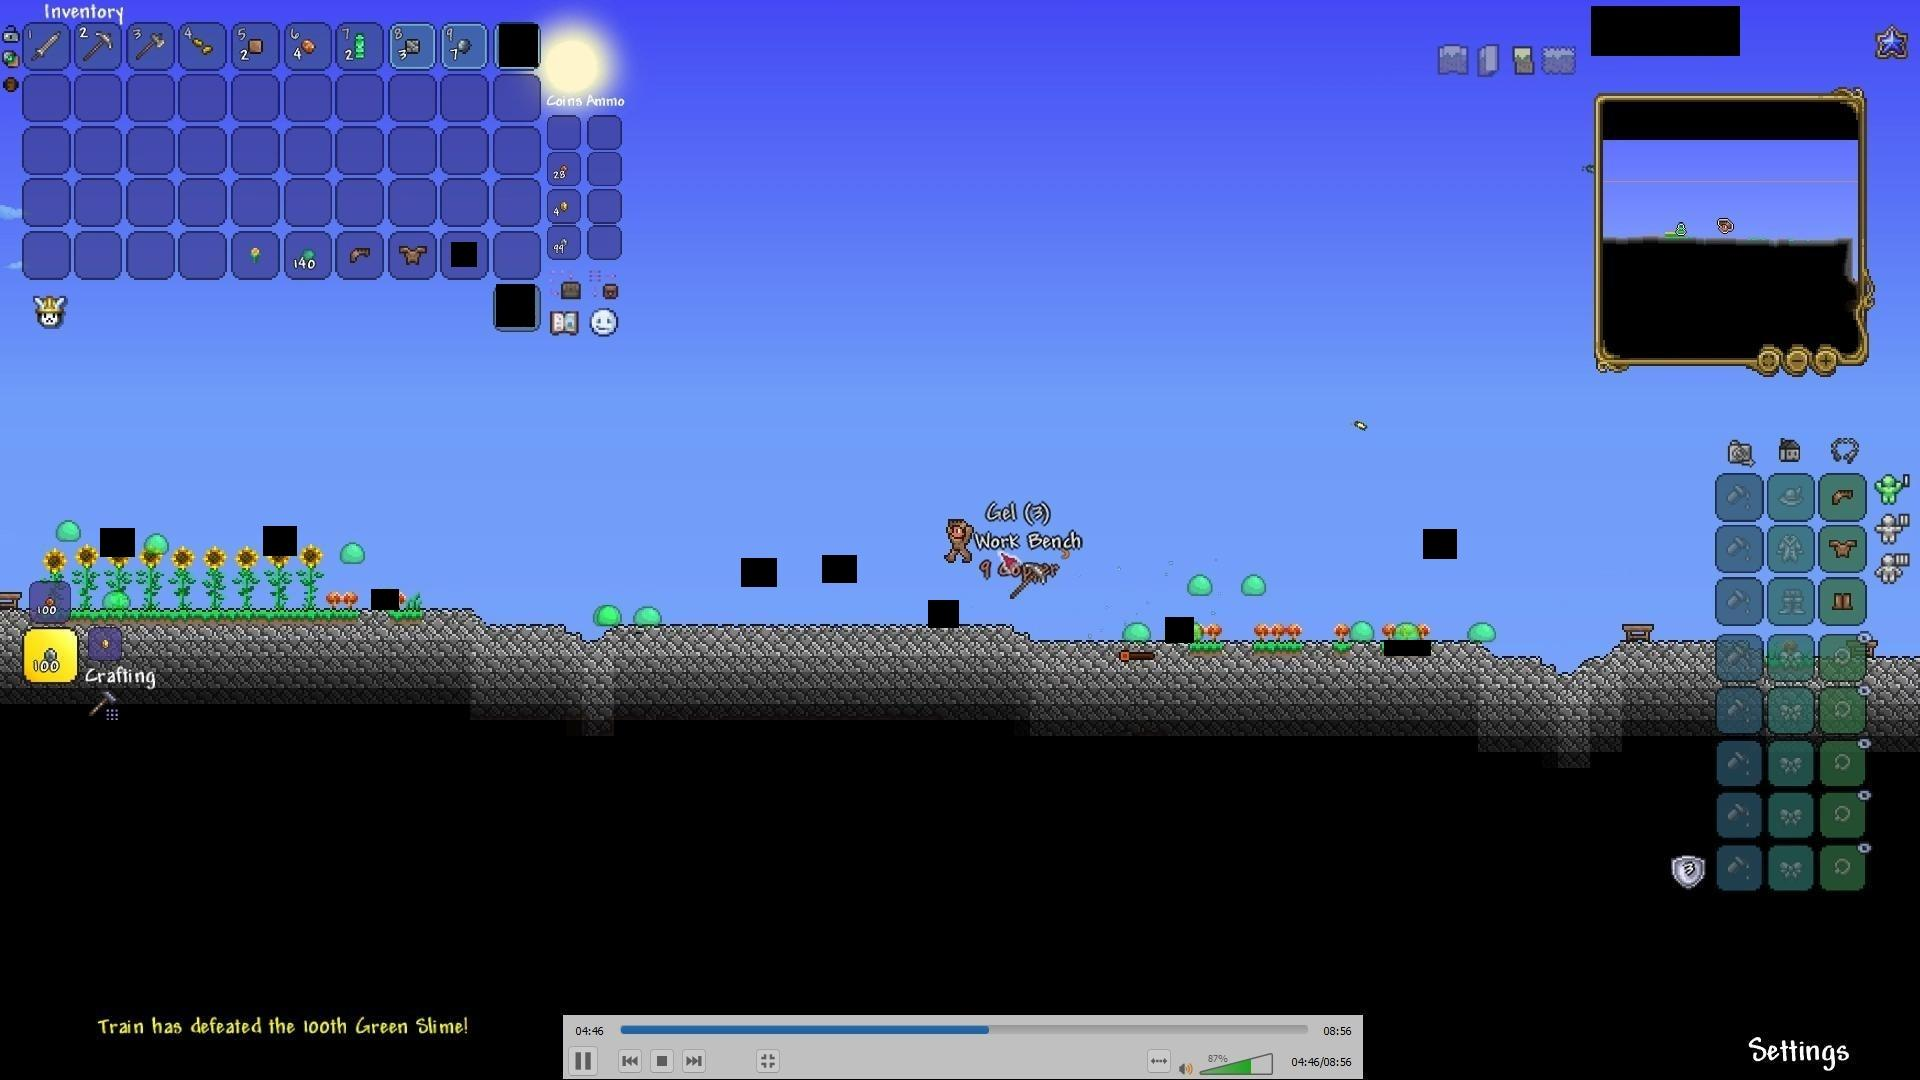breastplate: (397, 243, 429, 262), (1830, 537, 1859, 558)
dirt: (73, 608, 359, 624), (1254, 636, 1300, 655), (1192, 637, 1221, 655), (392, 611, 423, 622)
helmet: (345, 243, 375, 268), (1829, 484, 1858, 509)
legs: (1832, 588, 1857, 615)
slime: (1183, 571, 1217, 599), (335, 538, 368, 566), (133, 531, 164, 560), (592, 600, 624, 628), (54, 520, 87, 545), (634, 600, 665, 626), (1234, 571, 1265, 597), (1466, 618, 1498, 644), (1124, 620, 1153, 644), (1344, 621, 1377, 641), (1391, 622, 1424, 641), (102, 589, 131, 608)
workbench: (1619, 618, 1658, 645), (1, 585, 22, 612)
